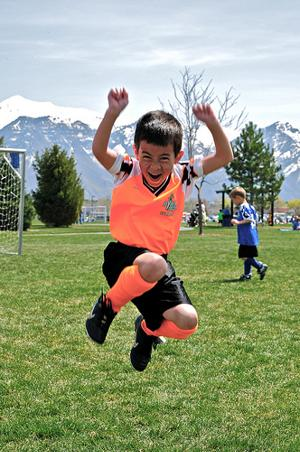person: (88, 89, 231, 375)
